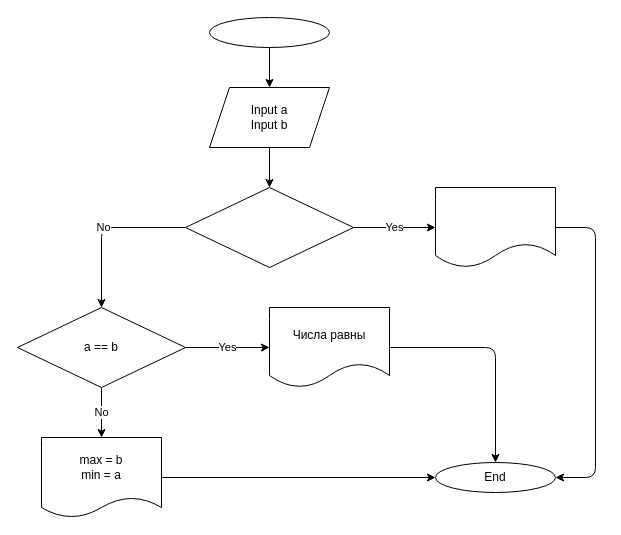
The diagram is 621 pixels wide and 535 high, and some of its shapes have lost their labels. Each missing label, with the box of its shape:
a > b: (184, 186, 354, 268)
max = a min = b: (434, 186, 556, 268)
Start: (208, 16, 330, 48)
